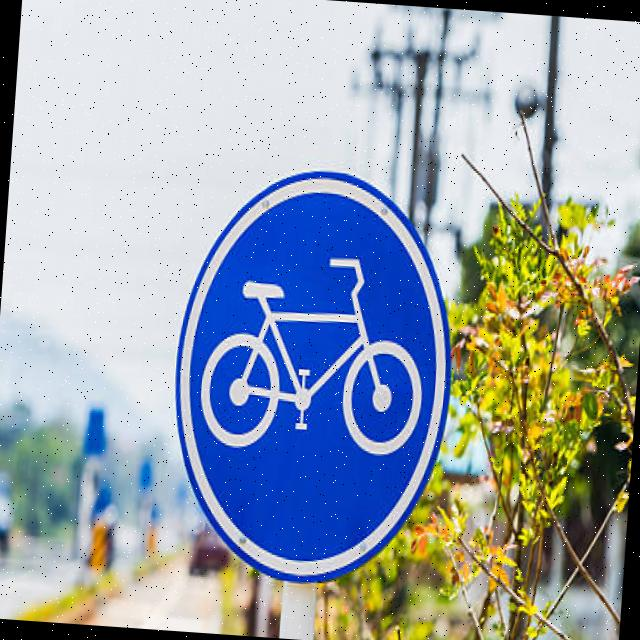bicycle: (158, 149, 468, 606)
